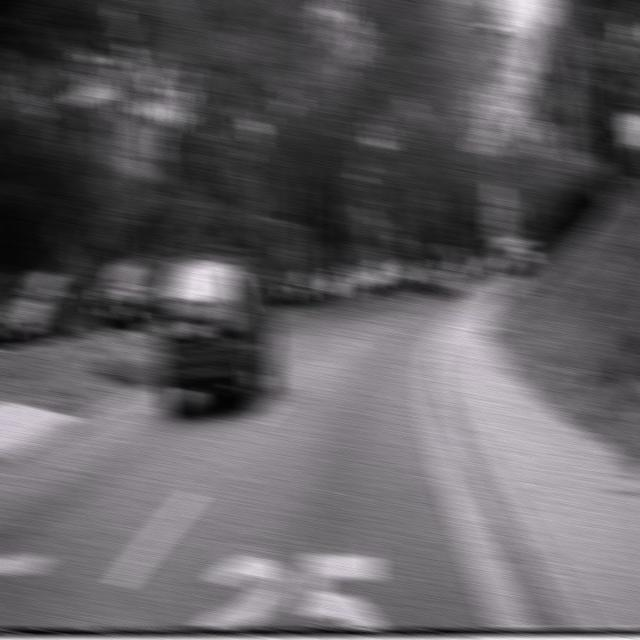speedLimit25: (487, 204, 512, 243)
